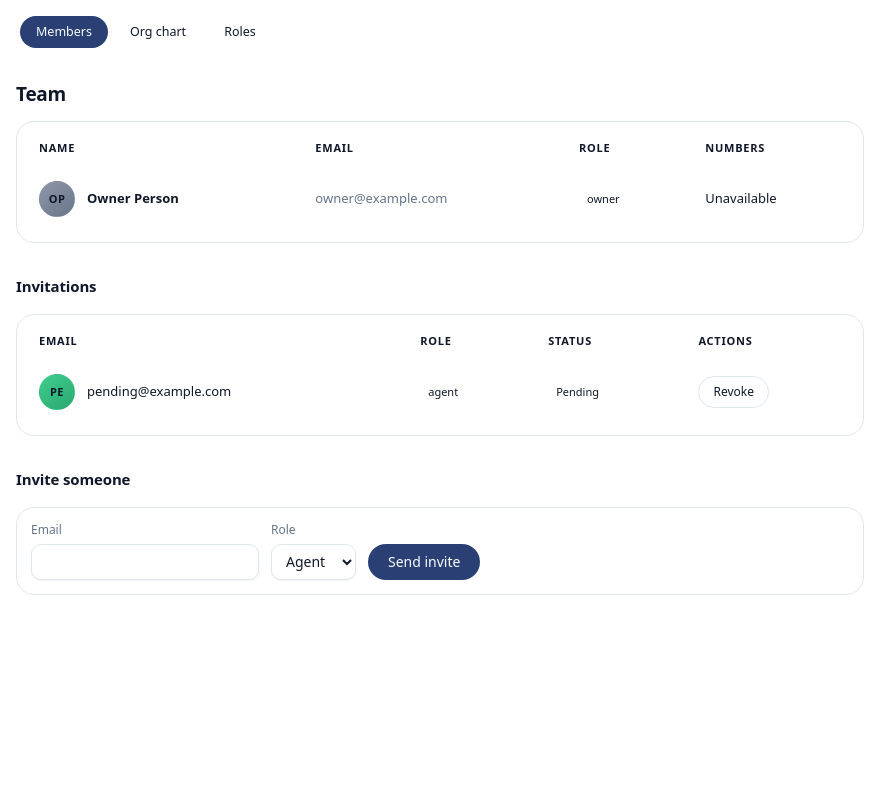
Test case: TeamPage › renders members + invitations and shows the one-time link after inviting someone
The width and height of the screenshot is (881, 796).
Expected: the text "owner@example.com" is shown, [301,170,565,228]
Expected: the text "pending@example.com" is shown, [87,382,231,402]
Type "new@example.com" into the field labelled "Email". click: x=145, y=562
box: [31,544,259,580]
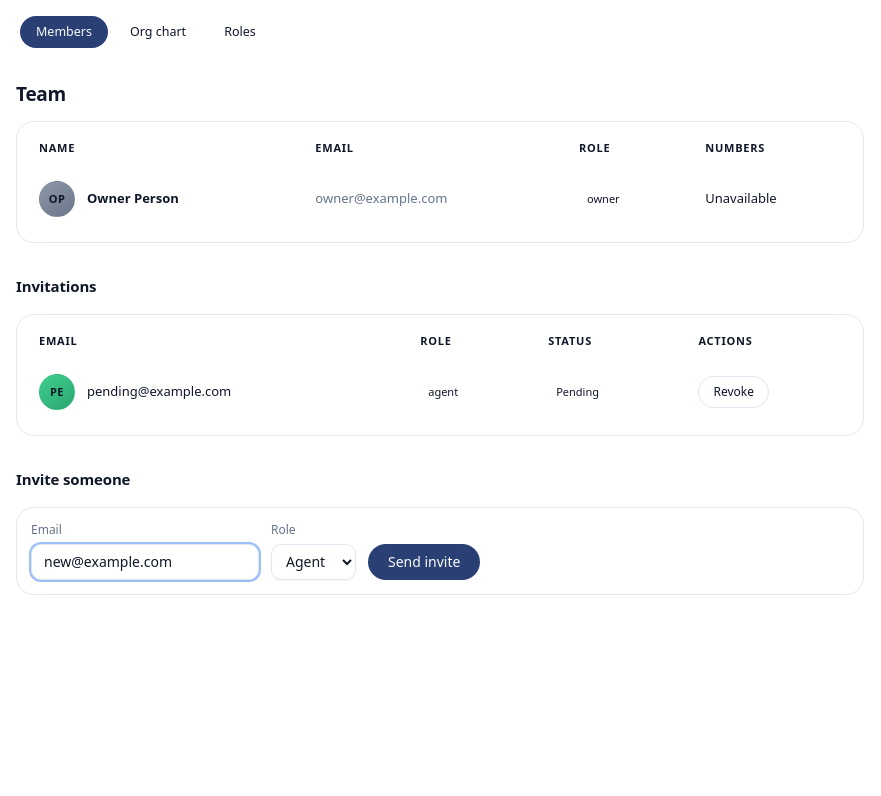
Click the button "Send invite". click: x=424, y=562
box: [368,544,480,580]
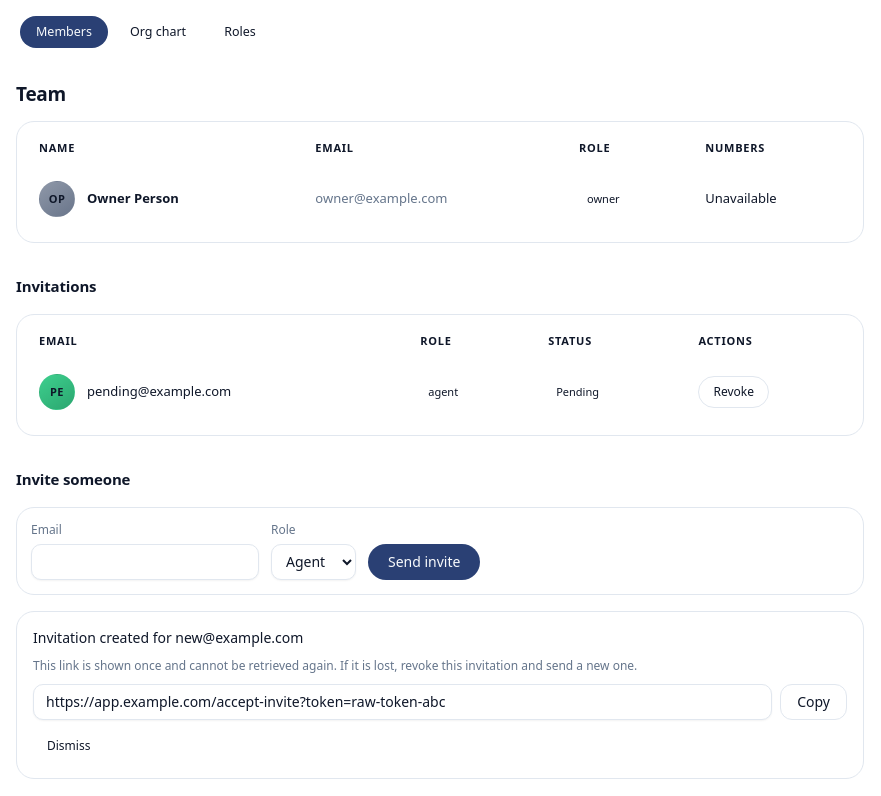
Now the field showing "https://app.example.com/accept-invite?token=raw-token-abc" is shown, box [33,684,772,720]
Now the text "shown once" is shown, box [33,656,637,674]
